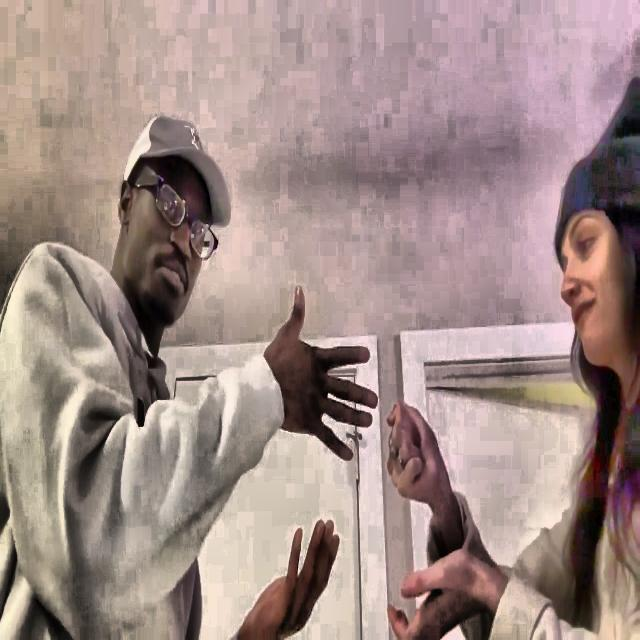not-gloved: (265, 283, 379, 463), (386, 398, 438, 504)
